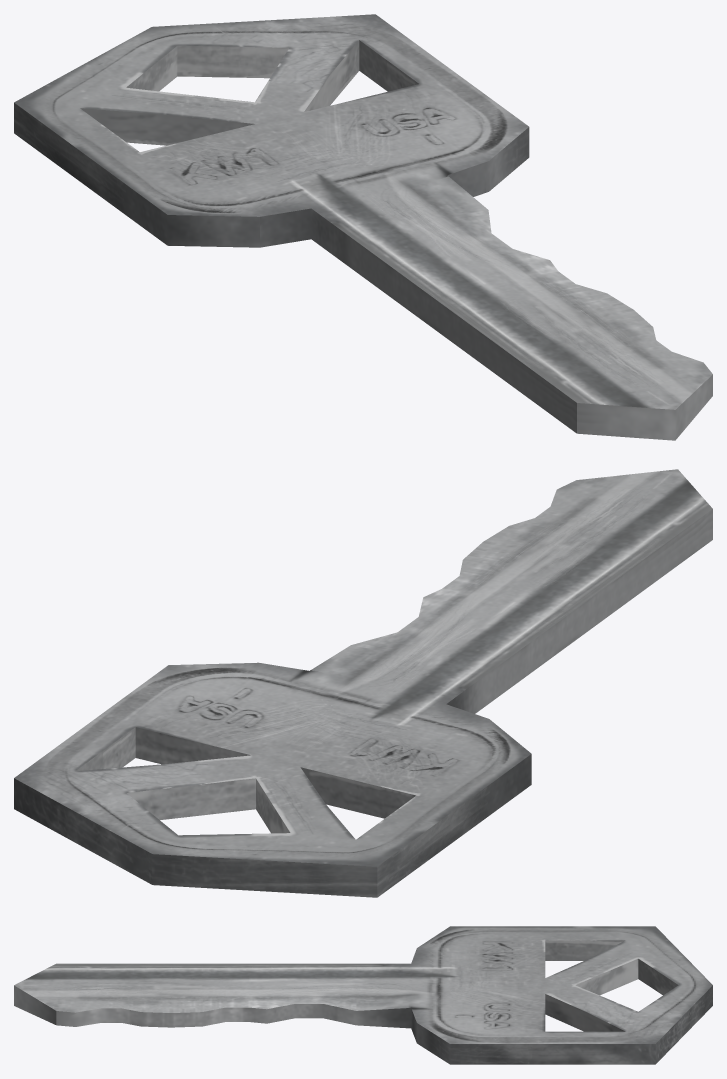
Rendered from Silver_Key.glb.
3 views of the same model, one above another, from view 1: azimuth 30°, elevation 25°; view 2: azimuth 150°, elevation 25°; view 3: azimuth 270°, elevation 25° (orthographic). The views are drawn at different scales.
Parts seen in each view (by area): view 1: key01; view 2: key01; view 3: key01.
Boxes of the visible parts, bbox=[...] form: key01: bbox=[14, 14, 712, 440]; key01: bbox=[14, 469, 712, 897]; key01: bbox=[14, 926, 712, 1064].
Bounding box in the file's own units: 0.0313 × 0.00255 × 0.0785.
1 material, 1 textured.
